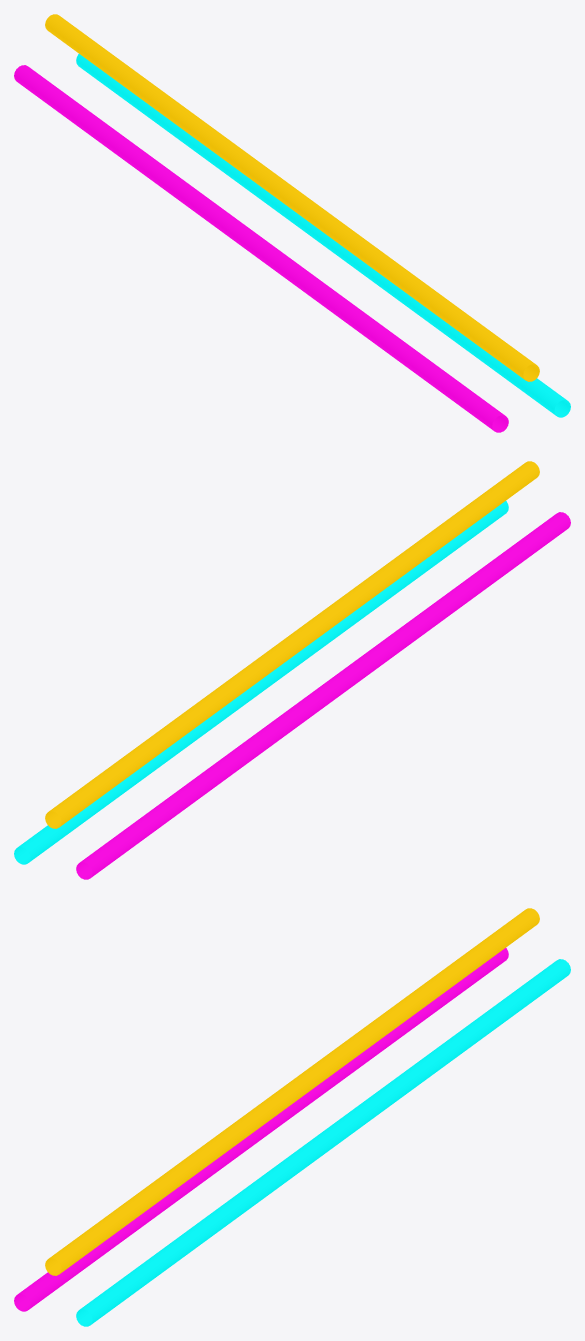
File: pipes.glb
The picture shows the model from 3 angles, top to bottom: view 1: azimuth 30°, elevation 25°; view 2: azimuth 150°, elevation 25°; view 3: azimuth 330°, elevation 25°; orthographic projection.
Visible parts, largest first — view 1: Parallel_Pipe_2, Parallel_Pipe_0, Parallel_Pipe_1; view 2: Parallel_Pipe_2, Parallel_Pipe_0, Parallel_Pipe_1; view 3: Parallel_Pipe_2, Parallel_Pipe_1, Parallel_Pipe_0.
Boxes of the visible parts, x1=… form: Parallel_Pipe_2: x1=45, y1=14, x2=539, y2=381; Parallel_Pipe_0: x1=14, y1=65, x2=508, y2=432; Parallel_Pipe_1: x1=76, y1=54, x2=570, y2=417; Parallel_Pipe_2: x1=45, y1=461, x2=539, y2=828; Parallel_Pipe_0: x1=76, y1=512, x2=570, y2=879; Parallel_Pipe_1: x1=14, y1=501, x2=508, y2=864; Parallel_Pipe_2: x1=45, y1=908, x2=539, y2=1275; Parallel_Pipe_1: x1=76, y1=959, x2=570, y2=1326; Parallel_Pipe_0: x1=14, y1=948, x2=508, y2=1311.
Size of the model in its own units: 3.8 by 2.8 by 40.
